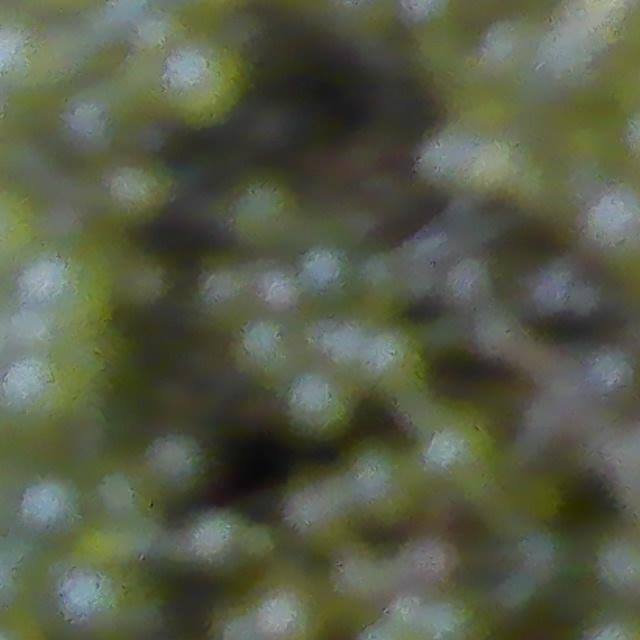SeaGrape: (161, 39, 248, 127), (231, 575, 328, 640), (226, 176, 303, 254), (286, 367, 355, 439), (234, 317, 298, 384), (142, 430, 207, 495), (587, 186, 640, 251), (20, 478, 77, 533)
